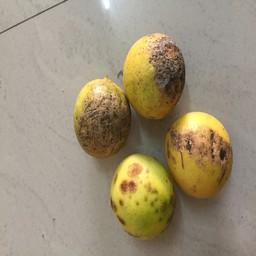Bad_lime: (167, 108, 234, 204), (125, 30, 184, 123), (117, 155, 173, 250), (75, 75, 129, 161)
